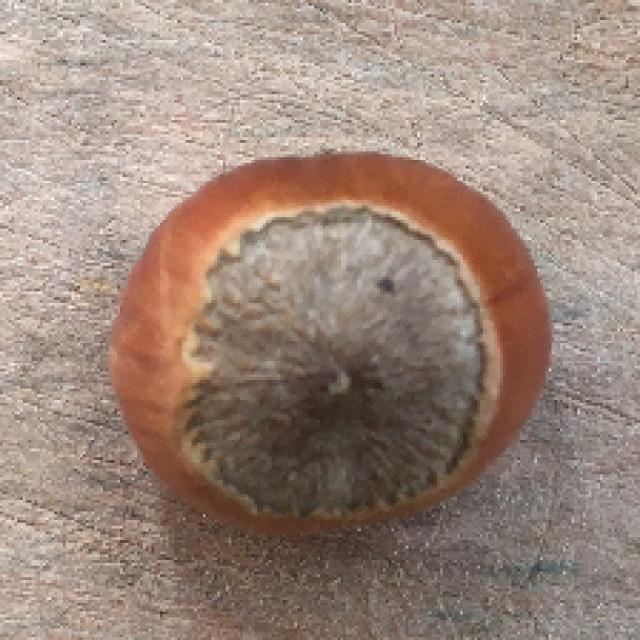damagedHazelnut: (107, 129, 557, 543)
